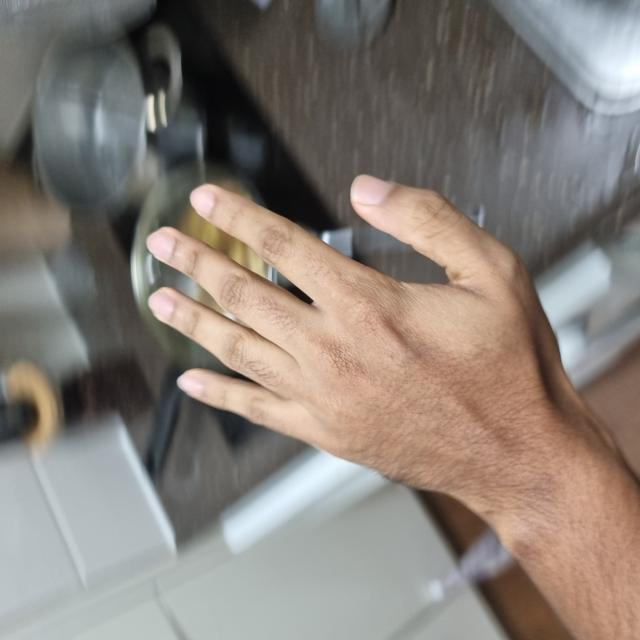Paper: (143, 154, 460, 557)
